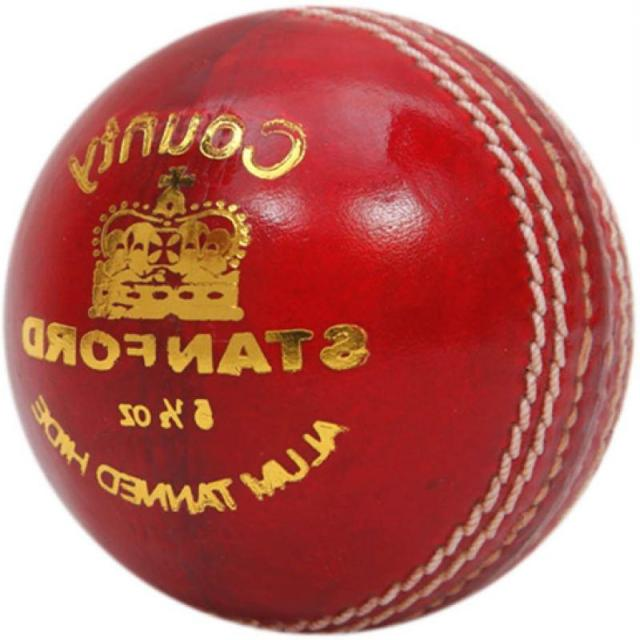ball: (9, 8, 624, 637)
